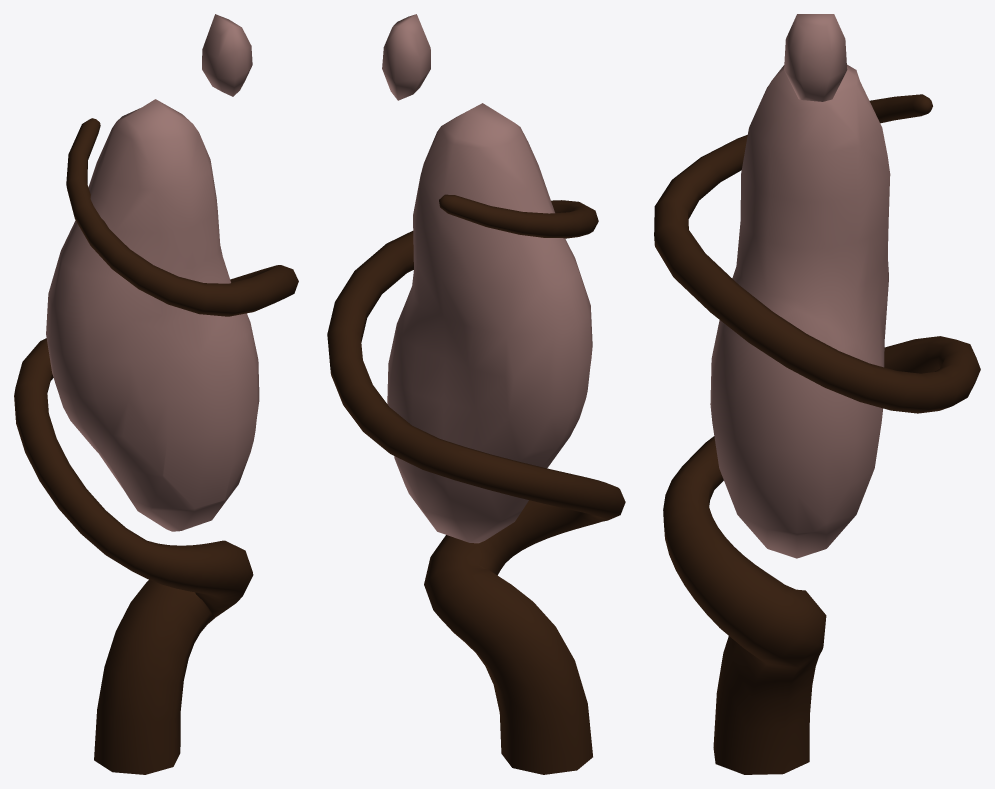
Rendered from decor-treelava.glb.
3 views of the same model, side by side, from view 1: azimuth 30°, elevation 25°; view 2: azimuth 150°, elevation 25°; view 3: azimuth 270°, elevation 25° (orthographic). The views are drawn at different scales.
Visible parts, largest first — view 1: Tree_Lava_1; view 2: Tree_Lava_1; view 3: Tree_Lava_1.
Part boxes in pixels (x1,y1,x2,y2): Tree_Lava_1: (14,14,298,774); Tree_Lava_1: (327,14,625,774); Tree_Lava_1: (654,14,980,774).
Bounding box in the file's own units: 1.29 × 3.5 × 1.29.
Materials: 1 (1 with a texture image).
